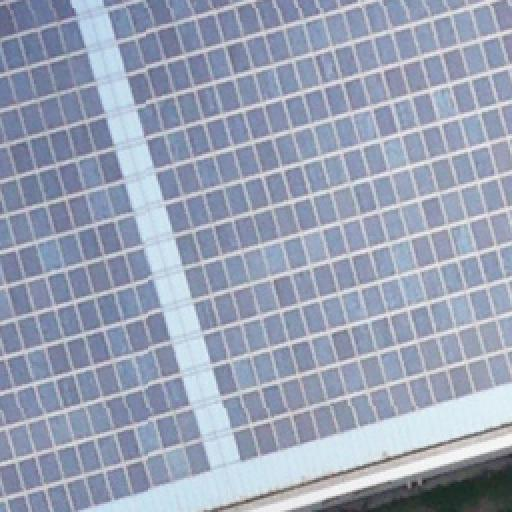solar-panel: (102, 1, 512, 463), (1, 0, 215, 512)
